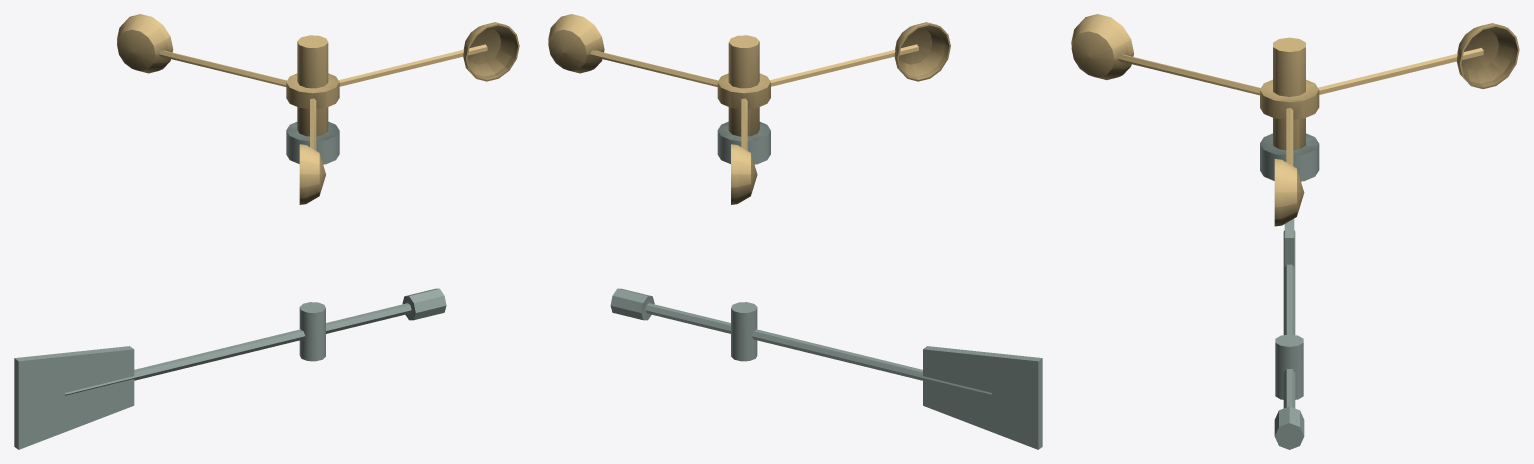
File: obs_anemometer.glb
3 views of the same model, side by side, from view 1: azimuth 30°, elevation 25°; view 2: azimuth 150°, elevation 25°; view 3: azimuth 270°, elevation 25° (orthographic). The views are drawn at different scales.
Visible parts, largest first — view 1: static; view 2: static; view 3: static.
Part boxes in pixels (bbox=[...]): static: bbox=[14, 14, 519, 449]; static: bbox=[548, 14, 1042, 449]; static: bbox=[1071, 14, 1519, 449].
Size of the model in its own units: 1.29 by 0.83 by 0.9064.
